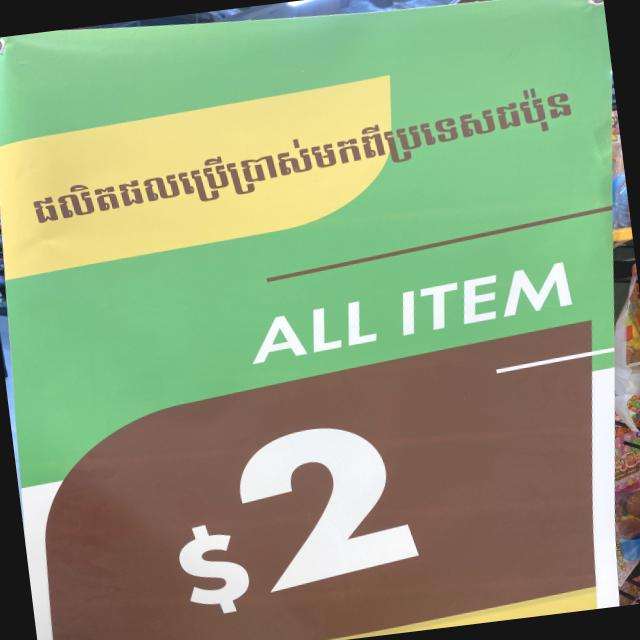631: (214, 407, 452, 603)
Yolov11_80vkh: (27, 76, 584, 241), (161, 511, 269, 625)
